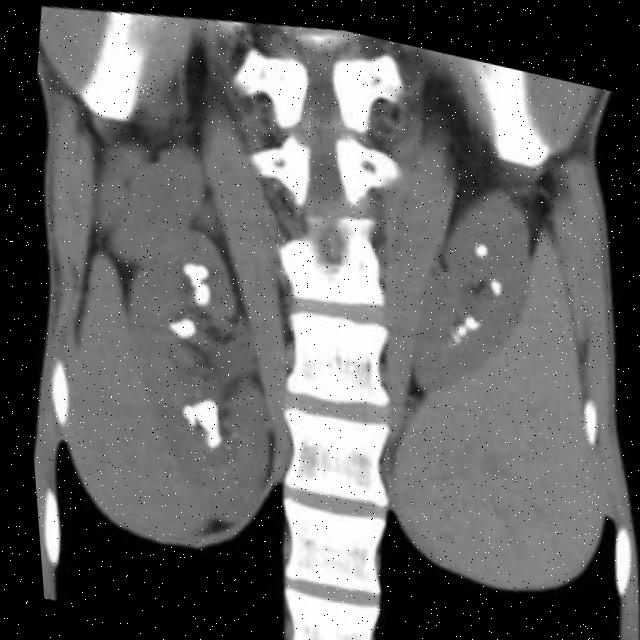Tas_Var: (179, 388, 229, 458), (168, 248, 216, 292), (151, 304, 200, 347), (177, 274, 214, 309), (169, 398, 196, 431), (480, 268, 503, 293), (456, 303, 479, 328), (467, 230, 489, 256), (438, 316, 460, 339), (448, 314, 469, 333), (436, 329, 451, 342)
